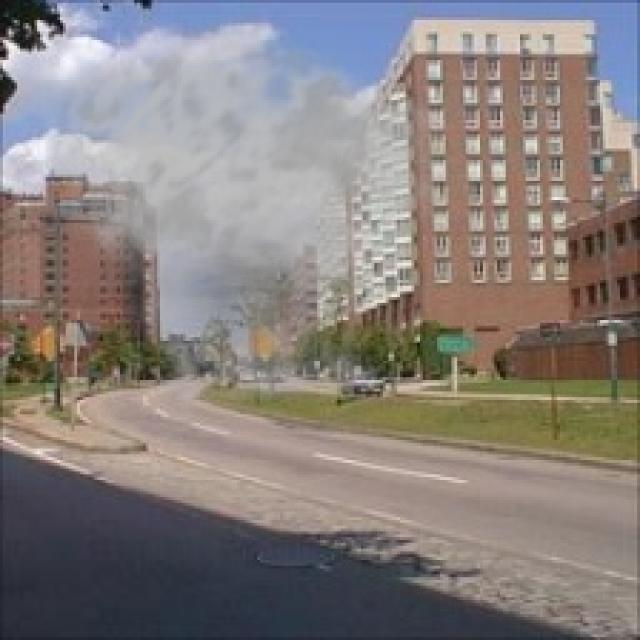Smoke: (34, 23, 457, 440)
